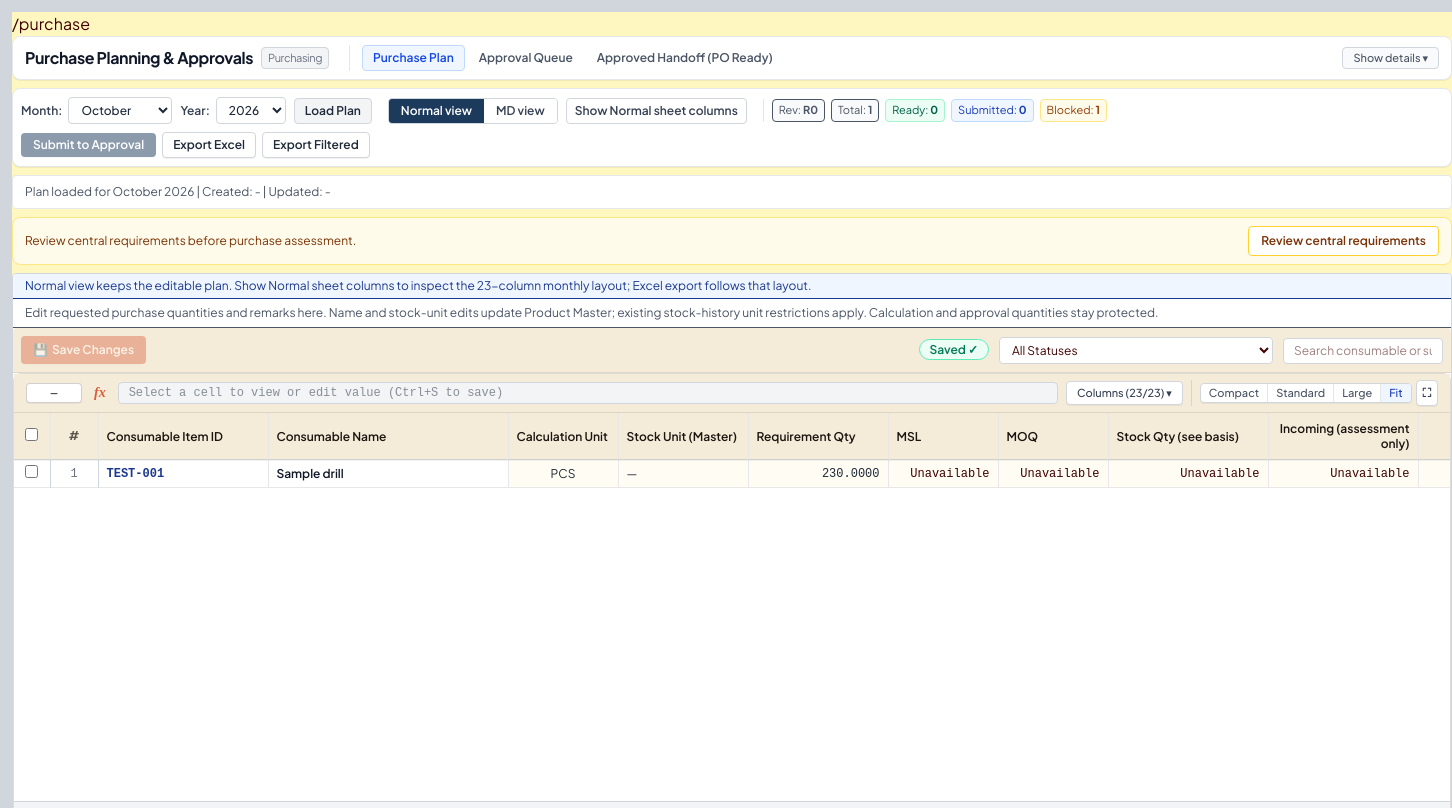
Scenario: the complete Purchase page opens for Super Admin and navigates to the selected plan review
Expected: the cell "TEST-001" is shown, [98,460,268,488]
Expected: the cell "230.0000" is shown, [748,460,888,488]
Click the button "Review central requirements" at [1344, 241], box [1248,226,1439,256]
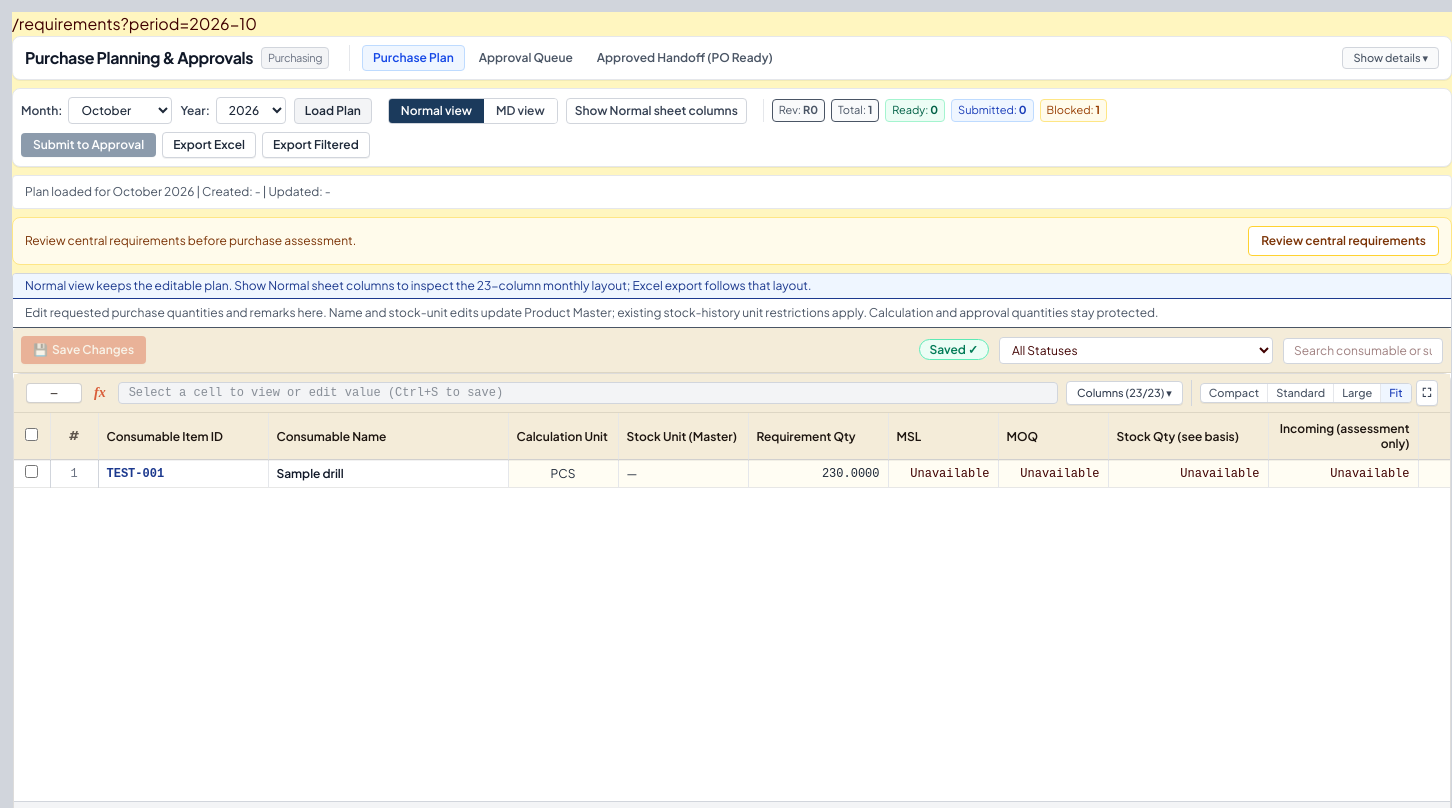
Result: the text named "Current route" reads "/requirements?period=2026-10" at [12,13,257,34]
